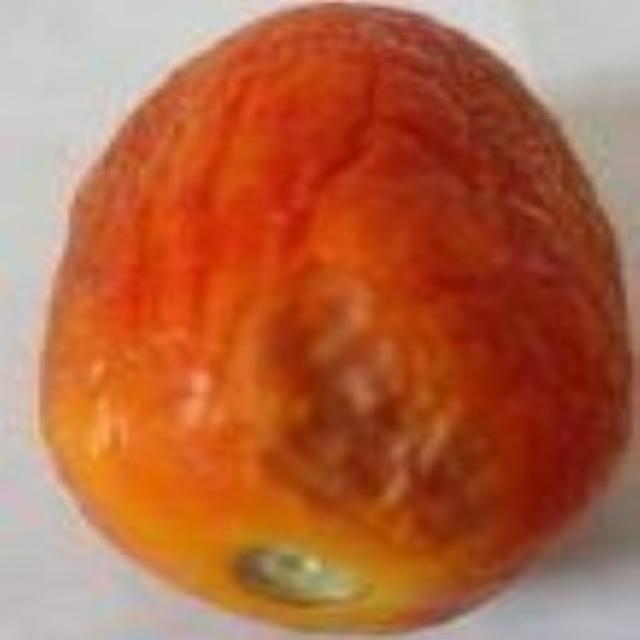defect: (39, 3, 627, 639)
